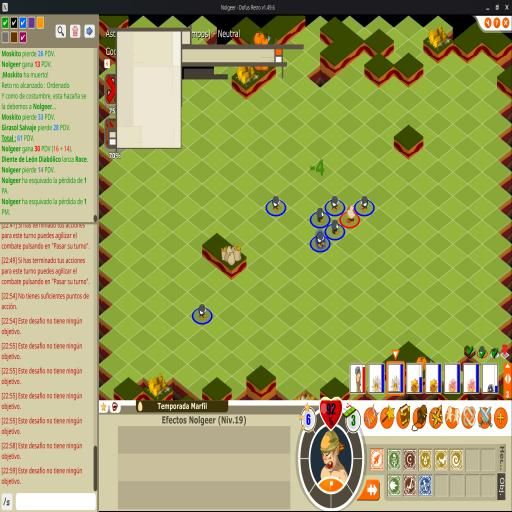Enemigos: (330, 195, 341, 212), (330, 219, 341, 235), (359, 195, 369, 212), (316, 231, 326, 248), (272, 195, 282, 212), (316, 207, 326, 223), (198, 304, 208, 320)
Personaje: (346, 204, 356, 224)
